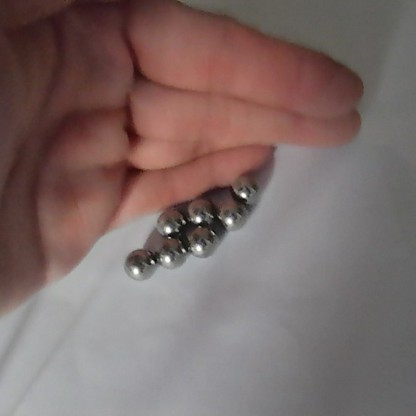ironball: (184, 225, 217, 258), (215, 200, 246, 233), (154, 205, 185, 238), (154, 241, 185, 272), (124, 247, 153, 280), (228, 177, 257, 205), (186, 199, 214, 223)
